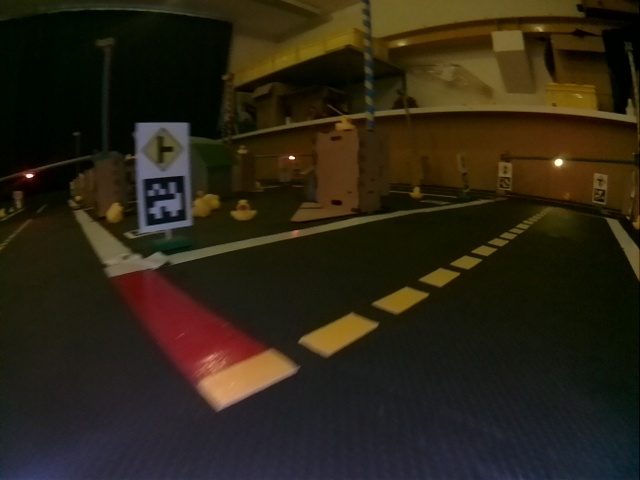Duckie: (232, 199, 254, 220), (106, 203, 123, 221), (192, 200, 210, 216), (336, 117, 354, 130), (205, 194, 220, 209), (411, 186, 420, 196)
Intersection sign: (141, 127, 183, 170), (594, 174, 607, 187)
QR code: (141, 176, 187, 225), (593, 188, 605, 201), (498, 176, 510, 189)
